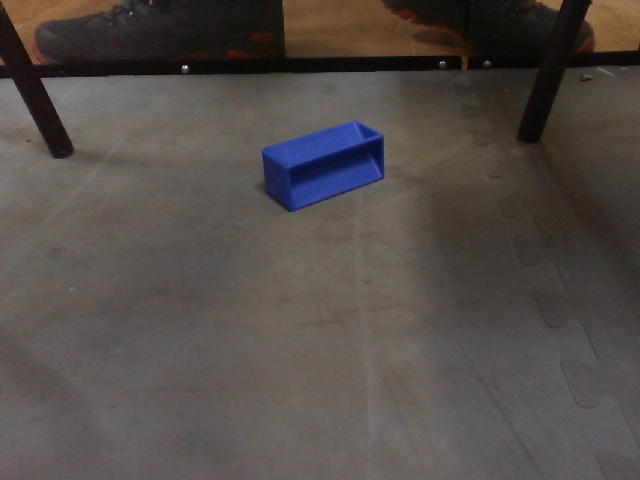BlueSample: (259, 118, 386, 213)
